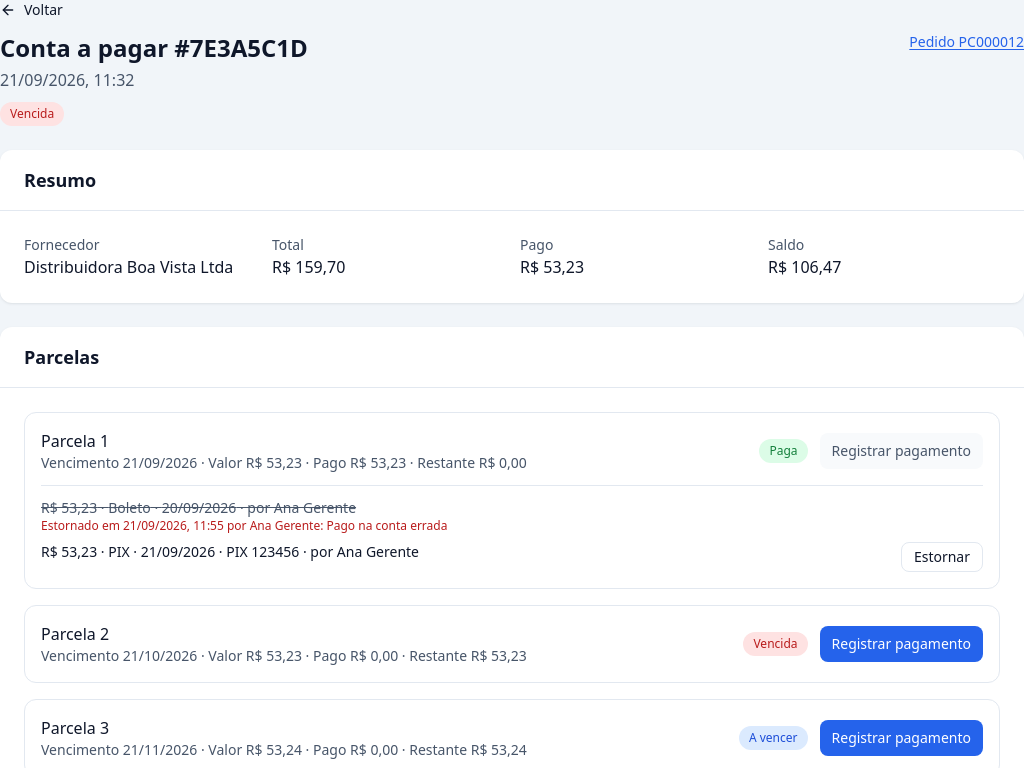
Scenario: PayableDetailPage › pagar parcela envia o corpo certo e invalida o pedido de compra
The image size is (1024, 768).
Expected: the text "Distribuidora Boa Vista Ltda" is shown, [24,255,256,279]
Click the button "Registrar pagamento" in the row of "21/10/2026" at [901, 644], box [820,626,983,662]
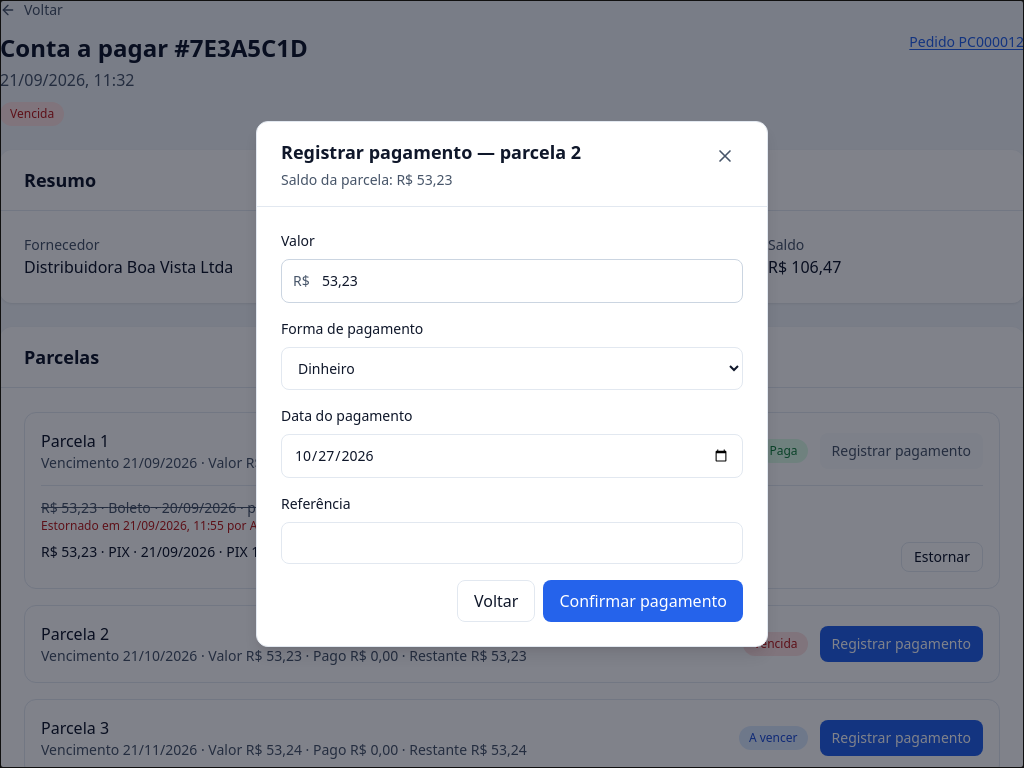
Select "PIX" in the dropdown labelled "Forma de pagamento" at [512, 368], box [281,347,743,390]
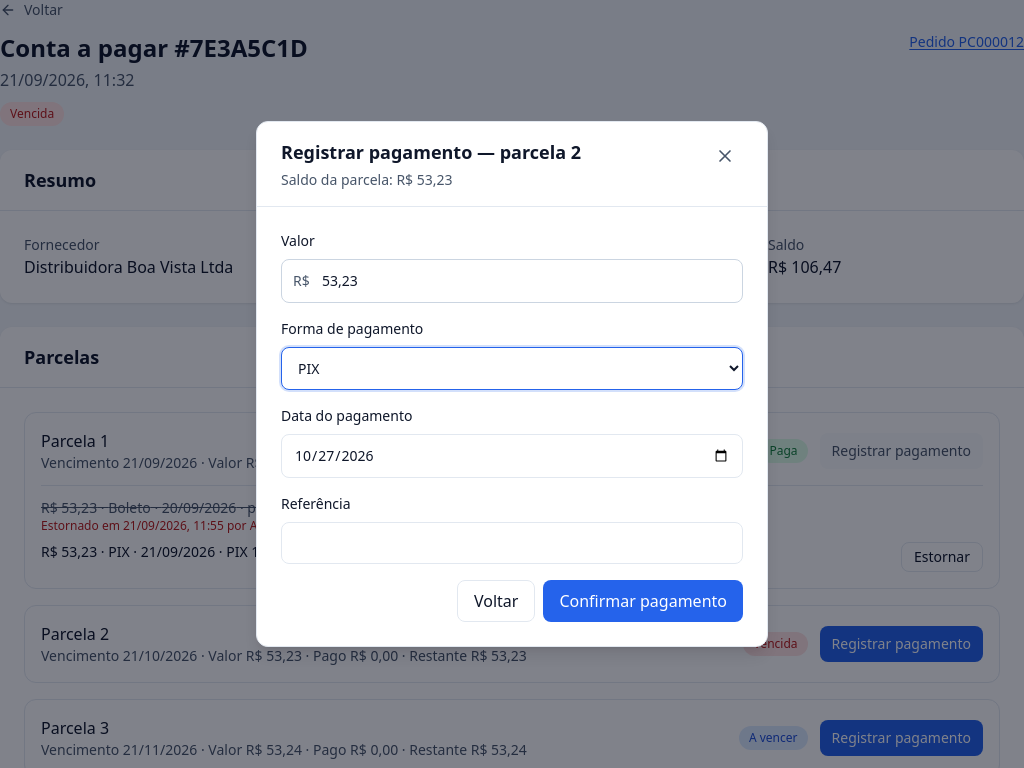
Type "NF 99" into the field labelled "Referência" at [512, 543], box [281,522,743,564]
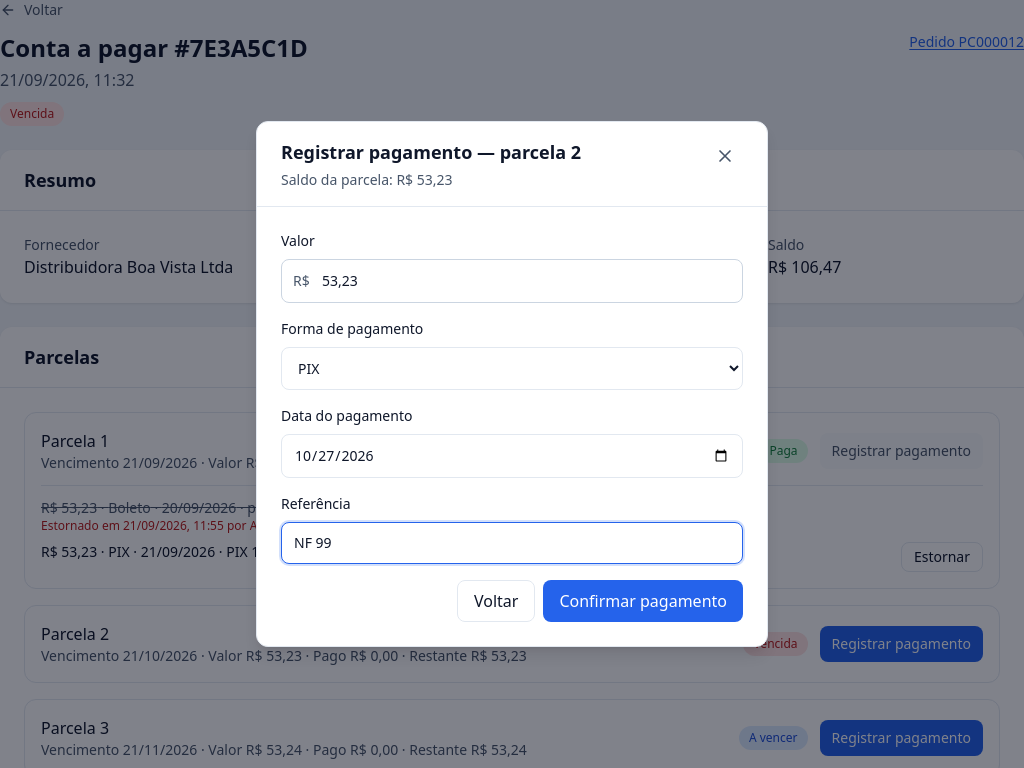
Click the button "Confirmar pagamento" at [643, 601], box [543,580,743,622]
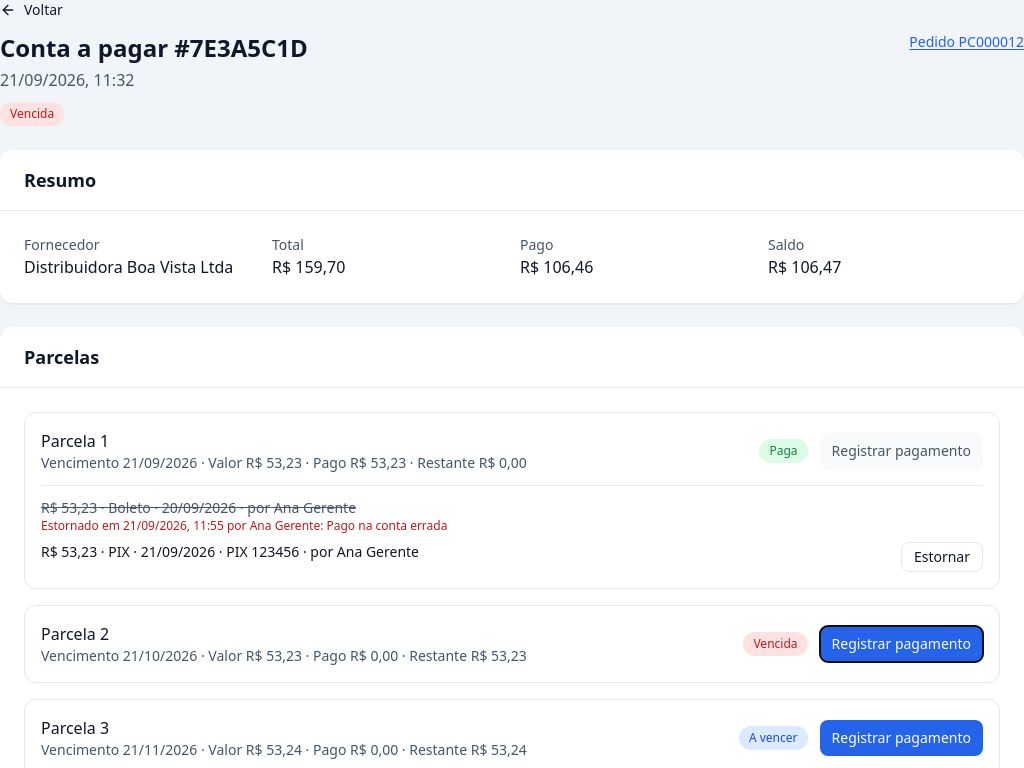
Result: the dialog is gone
